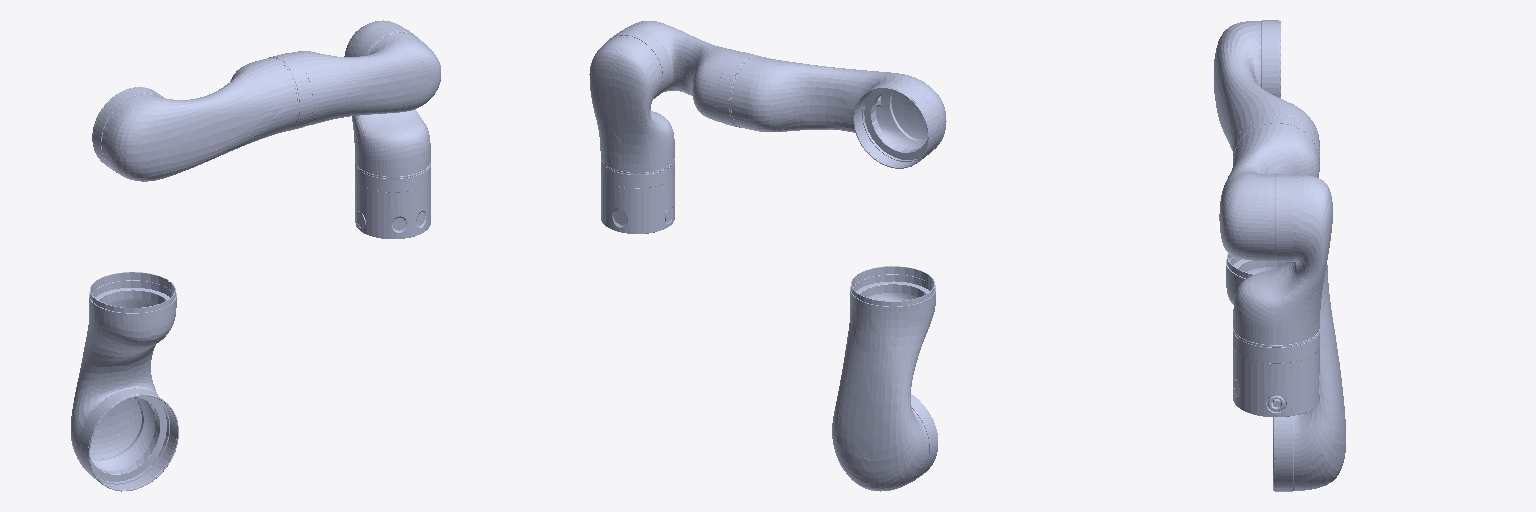
URDF robot description (tcb710):
<?xml version="1.0" encoding="utf-8"?>
<!-- This URDF was automatically created by SolidWorks to URDF Exporter! Originally created by Stephen Brawner (brawner@gmail.com) 
     Commit Version: 1.6.0-4-g7f85cfe  Build Version: 1.6.7995.38578
     For more information, please see http://wiki.ros.org/sw_urdf_exporter -->
<robot
  name="tcb710">
  <mujoco>
    <compiler
      meshdir="../meshes/"
      discardvisual="false"
    />
  </mujoco> 
  <link
    name="link0">
    <inertial>
      <origin
        xyz="-0.0020391678669849 0.000208461233542918 0.0437970464318419"
        rpy="0 0 0" />
      <mass
        value="0.230943297728628" />
      <inertia
        ixx="0.00057885793198858"
        ixy="2.4964429515909E-06"
        ixz="-3.62761994221813E-06"
        iyy="0.00059732606099274"
        iyz="8.87603974516231E-07"
        izz="0.000630268815467412" />
    </inertial>
    <visual>
      <origin
        xyz="0 0 0"
        rpy="0 0 0" />
      <geometry>
        <mesh
          filename="package://tl_description/meshes/tcb710/link0.STL" />
      </geometry>
      <material
        name="">
        <color
          rgba="0.792156862745098 0.819607843137255 0.933333333333333 1" />
      </material>
    </visual>
    <collision>
      <origin
        xyz="0 0 0"
        rpy="0 0 0" />
      <geometry>
        <mesh
          filename="package://tl_description/meshes/tcb710/link0.STL" />
      </geometry>
    </collision>
  </link>
  <link
    name="link1">
    <inertial>
      <origin
        xyz="-2.82592835967695E-06 -0.0149440554612562 0.0760738628611228"
        rpy="0 0 0" />
      <mass
        value="0.188795049535535" />
      <inertia
        ixx="0.000644330974536614"
        ixy="5.5580416846699E-08"
        ixz="-5.40921744937968E-08"
        iyy="0.000669839544820846"
        iyz="0.000101917330586459"
        izz="0.000292784373513458" />
    </inertial>
    <visual>
      <origin
        xyz="0 0 0"
        rpy="0 0 0" />
      <geometry>
        <mesh
          filename="package://tl_description/meshes/tcb710/link1.STL" />
      </geometry>
      <material
        name="">
        <color
          rgba="0.792156862745098 0.819607843137255 0.933333333333333 1" />
      </material>
    </visual>
    <collision>
      <origin
        xyz="0 0 0"
        rpy="0 0 0" />
      <geometry>
        <mesh
          filename="package://tl_description/meshes/tcb710/link1.STL" />
      </geometry>
    </collision>
  </link>
  <joint
    name="joint1"
    type="revolute">
    <origin
      xyz="0 0 0.12215"
      rpy="0 0 0" />
    <parent
      link="link0" />
    <child
      link="link1" />
    <axis
      xyz="0 0 1" />
    <limit
      lower="-3.1226"
      upper="3.1226"
      effort="0"
      velocity="0" />
  </joint>
  <link
    name="link2">
    <inertial>
      <origin
        xyz="-1.20347801173404E-05 -0.0623096534981243 0.0137313757510769"
        rpy="0 0 0" />
      <mass
        value="0.167852810050995" />
      <inertia
        ixx="0.000623582919856085"
        ixy="-1.02023977094885E-07"
        ixz="-2.62605885954561E-08"
        iyy="0.000204004006193839"
        iyz="-9.63924565522136E-05"
        izz="0.00065392663703825" />
    </inertial>
    <visual>
      <origin
        xyz="0 0 0"
        rpy="0 0 0" />
      <geometry>
        <mesh
          filename="package://tl_description/meshes/tcb710/link2.STL" />
      </geometry>
      <material
        name="">
        <color
          rgba="0.792156862745098 0.819607843137255 0.933333333333333 1" />
      </material>
    </visual>
    <collision>
      <origin
        xyz="0 0 0"
        rpy="0 0 0" />
      <geometry>
        <mesh
          filename="package://tl_description/meshes/tcb710/link2.STL" />
      </geometry>
    </collision>
  </link>
  <joint
    name="joint2"
    type="revolute">
    <origin
      xyz="0 0.00665 0.14085"
      rpy="-1.5708 0 0" />
    <parent
      link="link1" />
    <child
      link="link2" />
    <axis
      xyz="0 0 1" />
    <limit
      lower="-2.3550"
      upper="2.3550"
      effort="0"
      velocity="0" />
  </joint>
  <link
    name="link3">
    <inertial>
      <origin
        xyz="5.18098848728642E-06 0.0163972364739495 0.0859506121923586"
        rpy="0 0 0" />
      <mass
        value="0.168577086504063" />
      <inertia
        ixx="0.000629526301979261"
        ixy="-2.03042856624291E-08"
        ixz="-6.3510201782451E-08"
        iyy="0.000646660834926441"
        iyz="-9.33670780140331E-05"
        izz="0.000173964973671172" />
    </inertial>
    <visual>
      <origin
        xyz="0 0 0"
        rpy="0 0 0" />
      <geometry>
        <mesh
          filename="package://tl_description/meshes/tcb710/link3.STL" />
      </geometry>
      <material
        name="">
        <color
          rgba="0.792156862745098 0.819607843137255 0.933333333333333 1" />
      </material>
    </visual>
    <collision>
      <origin
        xyz="0 0 0"
        rpy="0 0 0" />
      <geometry>
        <mesh
          filename="package://tl_description/meshes/tcb710/link3.STL" />
      </geometry>
    </collision>
  </link>
  <joint
    name="joint3"
    type="revolute">
    <origin
      xyz="0 -0.16015 -0.00665"
      rpy="1.5708 0 0" />
    <parent
      link="link2" />
    <child
      link="link3" />
    <axis
      xyz="0 0 1" />
    <limit
      lower="-3.1226"
      upper="3.1226"
      effort="0"
      velocity="0" />
  </joint>
  <link
    name="link4">
    <inertial>
      <origin
        xyz="0.0654996500300899 2.74632082586379E-06 -0.0144299138786475"
        rpy="0 0 0" />
      <mass
        value="0.145368322724393" />
      <inertia
        ixx="0.000131598131454647"
        ixy="2.6569844212142E-08"
        ixz="-7.17192831944772E-05"
        iyy="0.00052646752566568"
        iyz="-8.861306999827E-09"
        izz="0.000544513529335603" />
    </inertial>
    <visual>
      <origin
        xyz="0 0 0"
        rpy="0 0 0" />
      <geometry>
        <mesh
          filename="package://tl_description/meshes/tcb710/link4.STL" />
      </geometry>
      <material
        name="">
        <color
          rgba="0.792156862745098 0.819607843137255 0.933333333333333 1" />
      </material>
    </visual>
    <collision>
      <origin
        xyz="0 0 0"
        rpy="0 0 0" />
      <geometry>
        <mesh
          filename="package://tl_description/meshes/tcb710/link4.STL" />
      </geometry>
    </collision>
  </link>
  <joint
    name="joint4"
    type="revolute">
    <origin
      xyz="0 -0.00515 0.16035"
      rpy="-1.5708 0 0" />
    <parent
      link="link3" />
    <child
      link="link4" />
    <axis
      xyz="0 0 1" />
    <limit
      lower="-4.1364"
      upper="0.9948"
      effort="0"
      velocity="0" />
  </joint>
  <link
    name="link5">
    <inertial>
      <origin
        xyz="-5.03441458465925E-06 -0.0131444381701904 -0.0626744422945406"
        rpy="0 0 0" />
      <mass
        value="0.0899812078905683" />
      <inertia
        ixx="0.000204807892286065"
        ixy="-1.14862479619957E-08"
        ixz="-4.05830145853355E-08"
        iyy="0.00020796927352024"
        iyz="-3.60475268957361E-05"
        izz="7.7518637443742E-05" />
    </inertial>
    <visual>
      <origin
        xyz="0 0 0"
        rpy="0 0 0" />
      <geometry>
        <mesh
          filename="package://tl_description/meshes/tcb710/link5.STL" />
      </geometry>
      <material
        name="">
        <color
          rgba="0.792156862745098 0.819607843137255 0.933333333333333 1" />
      </material>
    </visual>
    <collision>
      <origin
        xyz="0 0 0"
        rpy="0 0 0" />
      <geometry>
        <mesh
          filename="package://tl_description/meshes/tcb710/link5.STL" />
      </geometry>
    </collision>
  </link>
  <joint
    name="joint5"
    type="revolute">
    <origin
      xyz="0.16615 0 0.00515"
      rpy="1.5708 0 -1.5708" />
    <parent
      link="link4" />
    <child
      link="link5" />
    <axis
      xyz="0 0 -1" />
    <limit
      lower="-3.1226"
      upper="3.1226"
      effort="0"
      velocity="0" />
  </joint>
  <link
    name="link6">
    <inertial>
      <origin
        xyz="-0.0398707312600325 -1.29749997316853E-05 -0.00873816110128949"
        rpy="0 0 0" />
      <mass
        value="0.0915266768417838" />
      <inertia
        ixx="8.07130413912198E-05"
        ixy="3.62631341401922E-08"
        ixz="3.15887030570879E-05"
        iyy="0.000167005961446473"
        iyz="-1.27355290216435E-08"
        izz="0.000170834721676917" />
    </inertial>
    <visual>
      <origin
        xyz="0 0 0"
        rpy="0 0 0" />
      <geometry>
        <mesh
          filename="package://tl_description/meshes/tcb710/link6.STL" />
      </geometry>
      <material
        name="">
        <color
          rgba="0.792156862745098 0.819607843137255 0.933333333333333 1" />
      </material>
    </visual>
    <collision>
      <origin
        xyz="0 0 0"
        rpy="0 0 0" />
      <geometry>
        <mesh
          filename="package://tl_description/meshes/tcb710/link6.STL" />
      </geometry>
    </collision>
  </link>
  <joint
    name="joint6"
    type="revolute">
    <origin
      xyz="0 0.00615 -0.11335"
      rpy="1.5708 0 0" />
    <parent
      link="link5" />
    <child
      link="link6" />
    <axis
      xyz="0 0 -1" />
    <limit
      lower="-3.8397"
      upper="0.6981"
      effort="0"
      velocity="0" />
  </joint>
  <link
    name="link7">
    <inertial>
      <origin
        xyz="0.00039924420341364 8.96781419158953E-05 -0.0228822715397777"
        rpy="0 0 0" />
      <mass
        value="0.075696461925067" />
      <inertia
        ixx="5.73362606949318E-05"
        ixy="-4.71066521669772E-09"
        ixz="-3.25485725625124E-07"
        iyy="5.76036490759312E-05"
        iyz="-1.43757836291746E-08"
        izz="7.09151369104182E-05" />
    </inertial>
    <visual>
      <origin
        xyz="0 0 0"
        rpy="0 0 0" />
      <geometry>
        <mesh
          filename="package://tl_description/meshes/tcb710/link7.STL" />
      </geometry>
      <material
        name="">
        <color
          rgba="0.792156862745098 0.819607843137255 0.933333333333333 1" />
      </material>
    </visual>
    <collision>
      <origin
        xyz="0 0 0"
        rpy="0 0 0" />
      <geometry>
        <mesh
          filename="package://tl_description/meshes/tcb710/link7.STL" />
      </geometry>
    </collision>
  </link>
  <joint
    name="joint7"
    type="revolute">
    <origin
      xyz="-0.1615 0 0.00615"
      rpy="1.5708 0 -1.5708" />
    <parent
      link="link6" />
    <child
      link="link7" />
    <axis
      xyz="0 0 1" />
    <limit
      lower="-3.1226"
      upper="3.1226"
      effort="0"
      velocity="0" />
  </joint>
</robot>

--- What the picture shows (computed from the rendered views, not written in the file) ---
3 views of the same robot in one strip: view 1: azimuth 30°, elevation 25°; view 2: azimuth 150°, elevation 25°; view 3: azimuth 270°, elevation 25° (orthographic).
Robot: tcb710 — 8 links, 7 joints (7 revolute); root link link0; default pose: all joints at 0.
Links seen in each view (by area): view 1: link2, link4, link5, link6, link7; view 2: link2, link4, link6, link5, link7; view 3: link6, link5, link2, link4, link7.
Boxes of the visible links, bbox=[...] form: link2: bbox=[71, 272, 178, 491]; link4: bbox=[92, 57, 297, 181]; link5: bbox=[269, 32, 440, 130]; link6: bbox=[344, 20, 430, 176]; link7: bbox=[355, 162, 430, 238]; link2: bbox=[832, 266, 937, 491]; link4: bbox=[731, 56, 946, 168]; link6: bbox=[589, 29, 674, 172]; link5: bbox=[622, 21, 757, 127]; link7: bbox=[601, 159, 674, 233]; link6: bbox=[1233, 174, 1332, 344]; link5: bbox=[1219, 114, 1319, 260]; link2: bbox=[1226, 253, 1345, 491]; link4: bbox=[1214, 20, 1319, 150]; link7: bbox=[1233, 329, 1319, 416].
Size in the robot's own frame: 0.3633 by 0.1071 by 0.4103 metres.
5 mesh visuals loaded from 8 distinct referenced files (5 binary STL); not drawn: 3 (reference not matched to a file when rendering).
